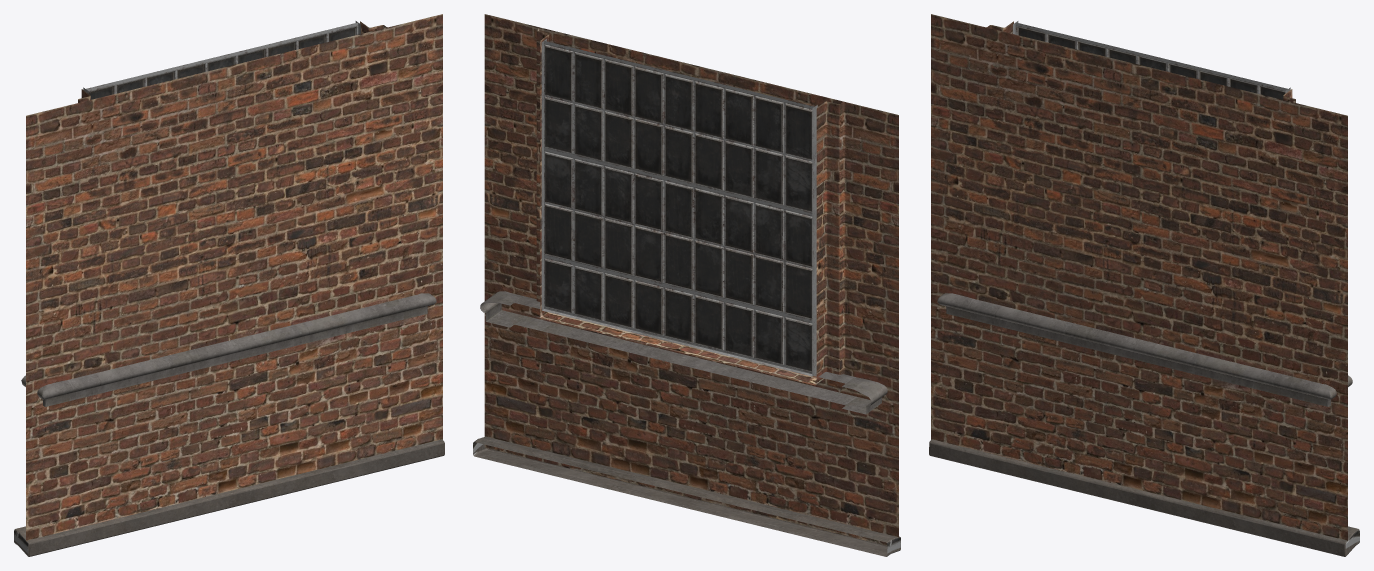
Rendered from polyhaven-factory.glb.
3 views of the same model, side by side, from view 1: azimuth 30°, elevation 25°; view 2: azimuth 150°, elevation 25°; view 3: azimuth 330°, elevation 25° (orthographic).
Parts seen in each view (by area): view 1: wall_standard_standard_01, wall_window_tall_large_01, window_tall_large_01, cornice03_standard_standard_01; view 2: window_tall_large_01, wall_window_tall_large_01, wall_standard_standard_01, cornice03_standard_standard_01; view 3: wall_standard_standard_01, wall_window_tall_large_01, window_tall_large_01, cornice03_standard_standard_01.
Boxes of the visible parts, x1=… form: wall_standard_standard_01: x1=26, y1=14, x2=442, y2=541; wall_window_tall_large_01: x1=26, y1=21, x2=442, y2=531; window_tall_large_01: x1=21, y1=21, x2=436, y2=406; cornice03_standard_standard_01: x1=14, y1=439, x2=444, y2=556; window_tall_large_01: x1=480, y1=39, x2=887, y2=414; wall_window_tall_large_01: x1=484, y1=27, x2=898, y2=545; wall_standard_standard_01: x1=484, y1=14, x2=898, y2=537; cornice03_standard_standard_01: x1=473, y1=436, x2=900, y2=556; wall_standard_standard_01: x1=931, y1=27, x2=1347, y2=539; wall_window_tall_large_01: x1=931, y1=14, x2=1347, y2=541; window_tall_large_01: x1=937, y1=21, x2=1352, y2=406; cornice03_standard_standard_01: x1=929, y1=439, x2=1359, y2=556.
Bounding box in the file's own units: 3 × 3.02 × 0.2678.
Materials: 4 (4 with a texture image).
